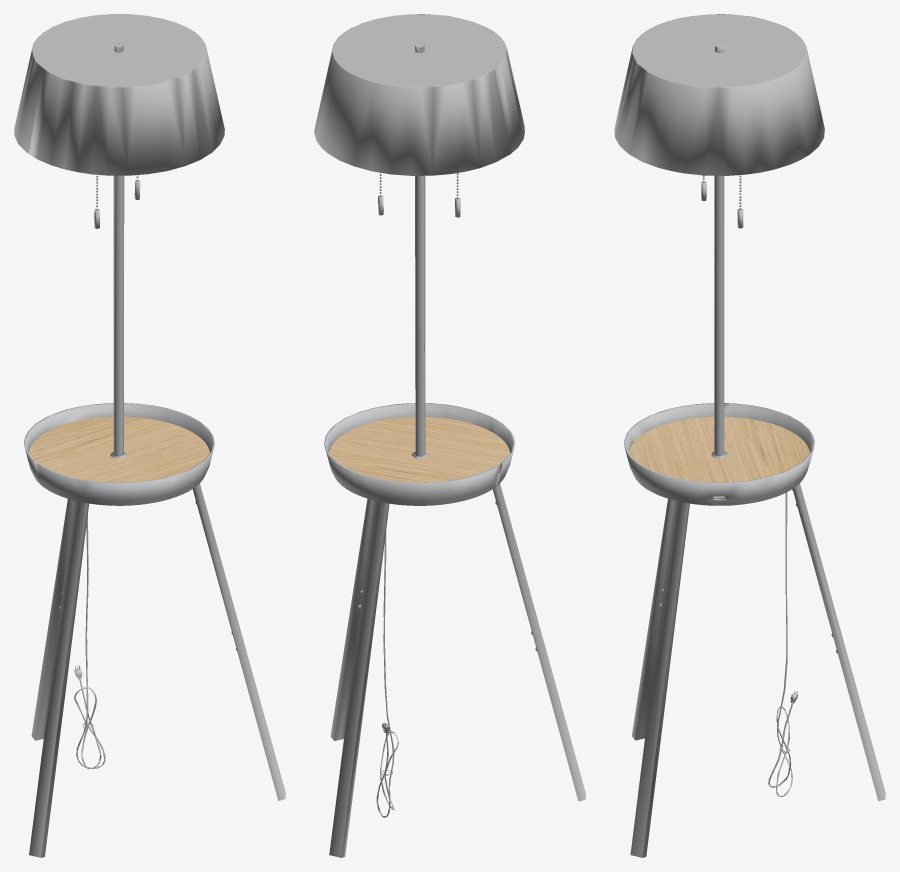
3 views of the same model, side by side, from view 1: azimuth 30°, elevation 25°; view 2: azimuth 150°, elevation 25°; view 3: azimuth 270°, elevation 25° (orthographic).
Parts seen in each view (by area): view 1: visual_RootNode; view 2: visual_RootNode; view 3: visual_RootNode.
Part boxes in pixels (<box>): visual_RootNode: <box>14,14,285,857</box>; visual_RootNode: <box>314,14,585,857</box>; visual_RootNode: <box>614,14,885,857</box>.
Size of the model in its own units: 0.5086 by 0.4675 by 1.43.
1 material, 1 textured.
